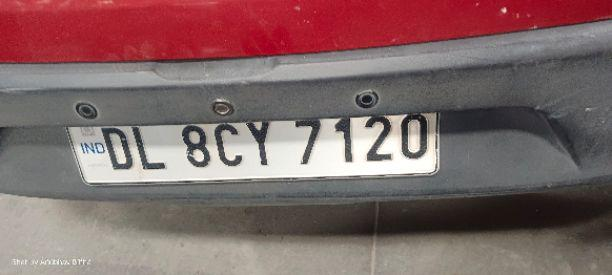license_plate: (1, 1, 610, 209), (65, 110, 441, 186)
